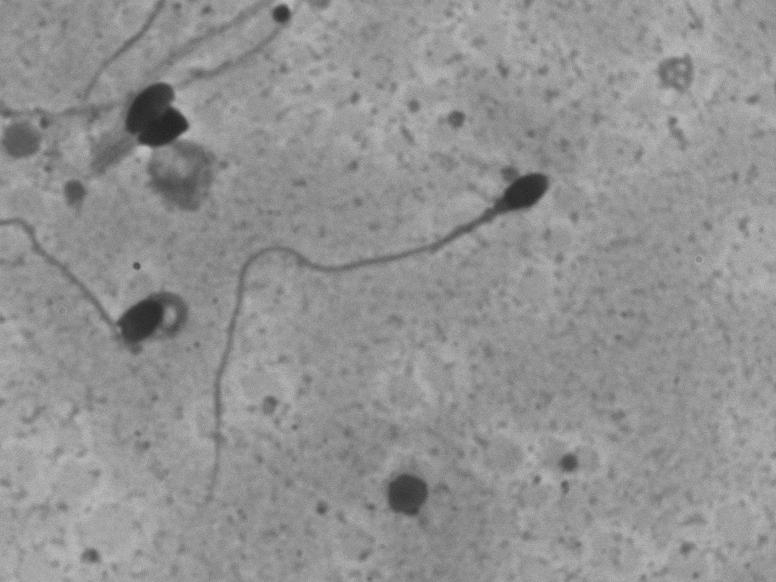Abnormal: (45, 235, 201, 391)
Normal: (204, 151, 610, 510)
